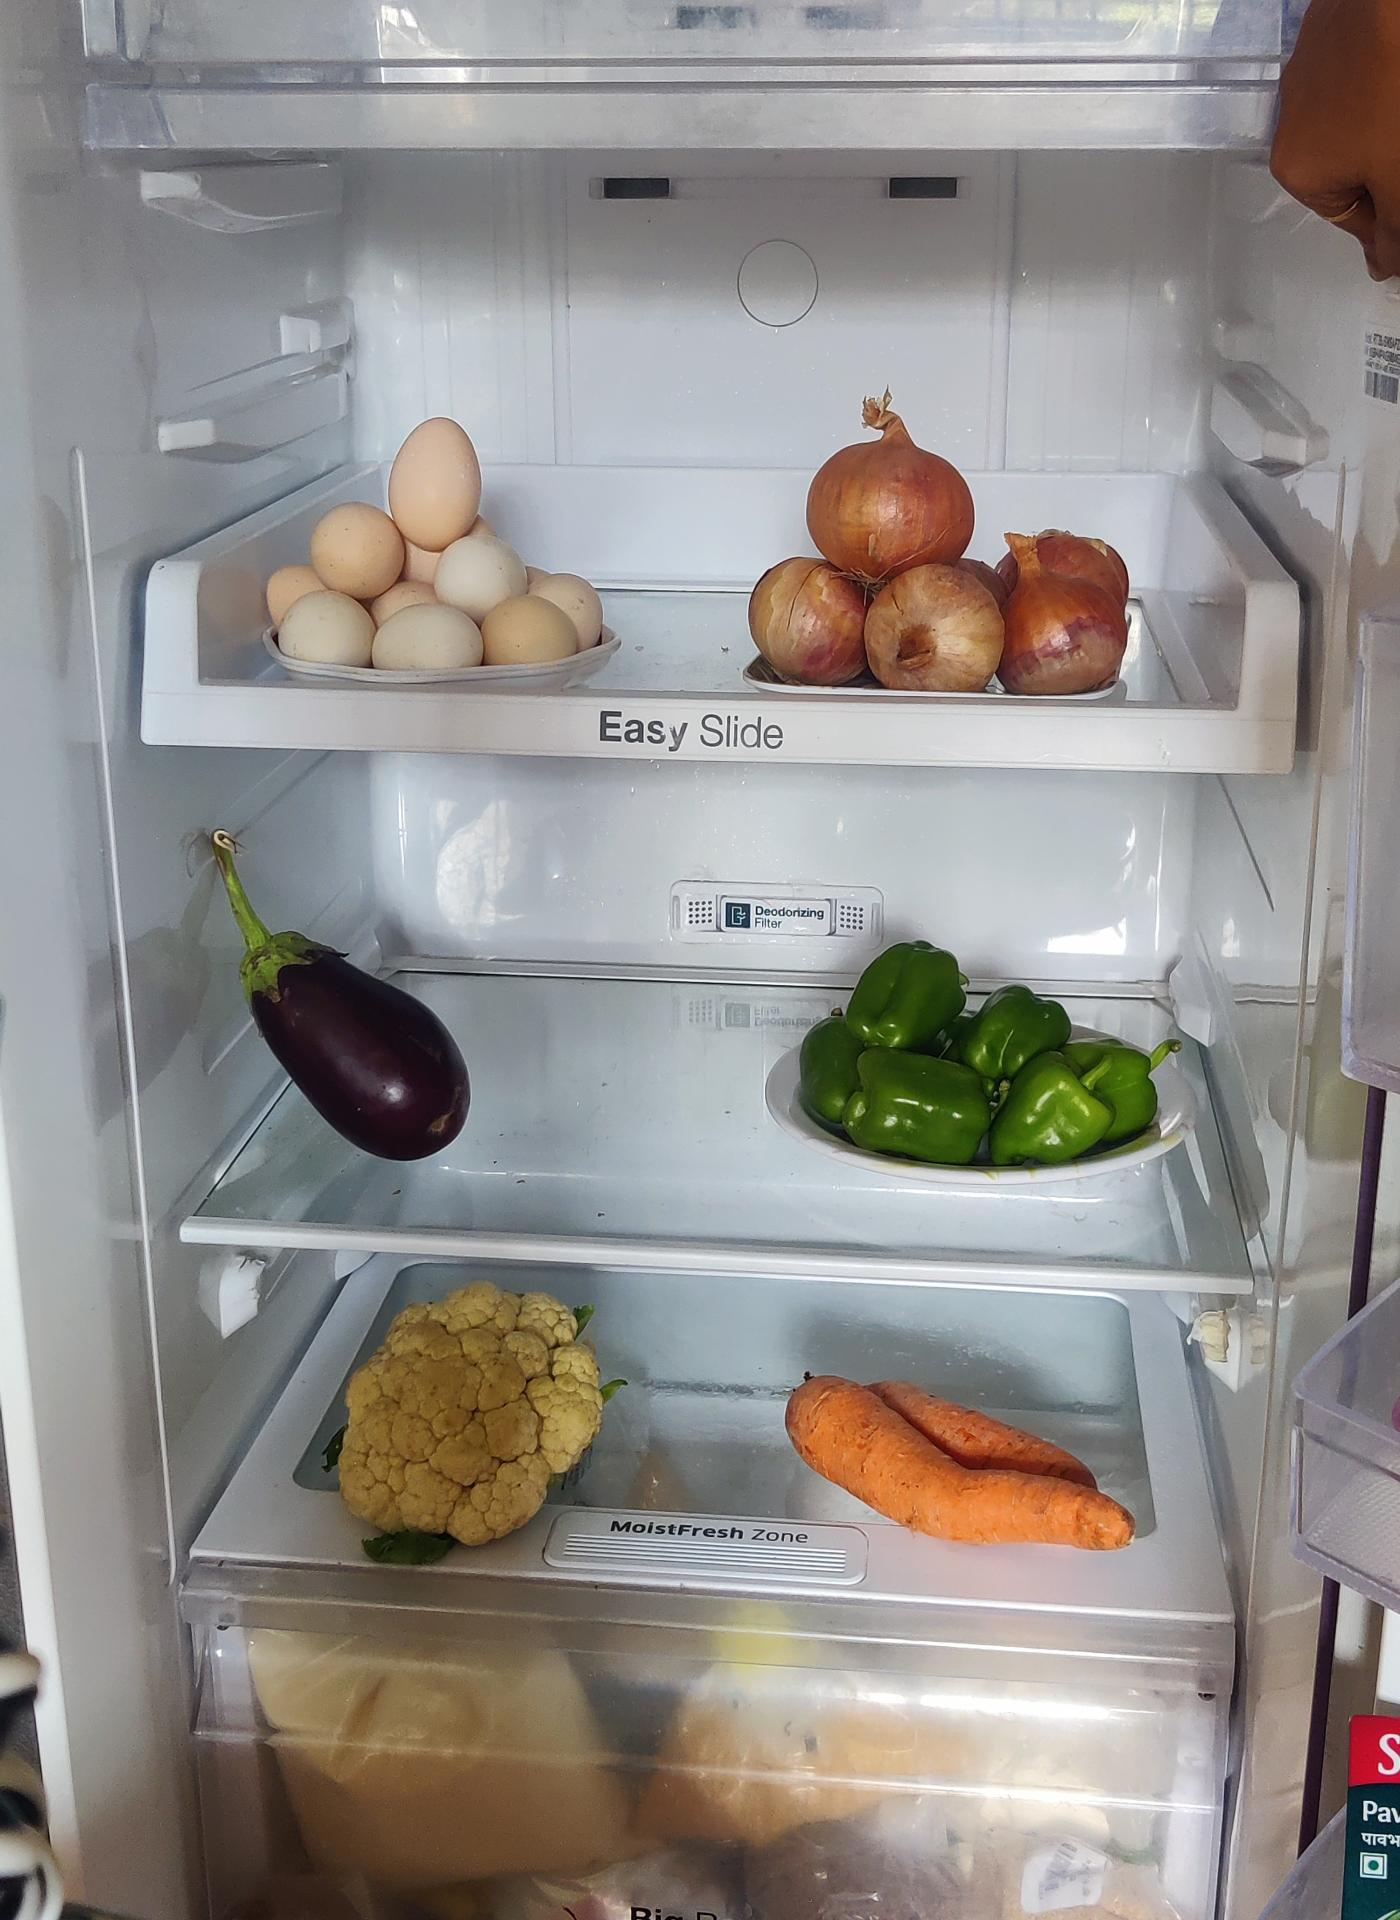brinjal: (212, 812, 479, 1160)
capsicum: (799, 929, 1163, 1169)
carrots: (775, 1355, 1147, 1550)
cauliflower: (352, 1269, 605, 1547)
egg: (271, 419, 608, 678)
onion: (740, 434, 1135, 686)
